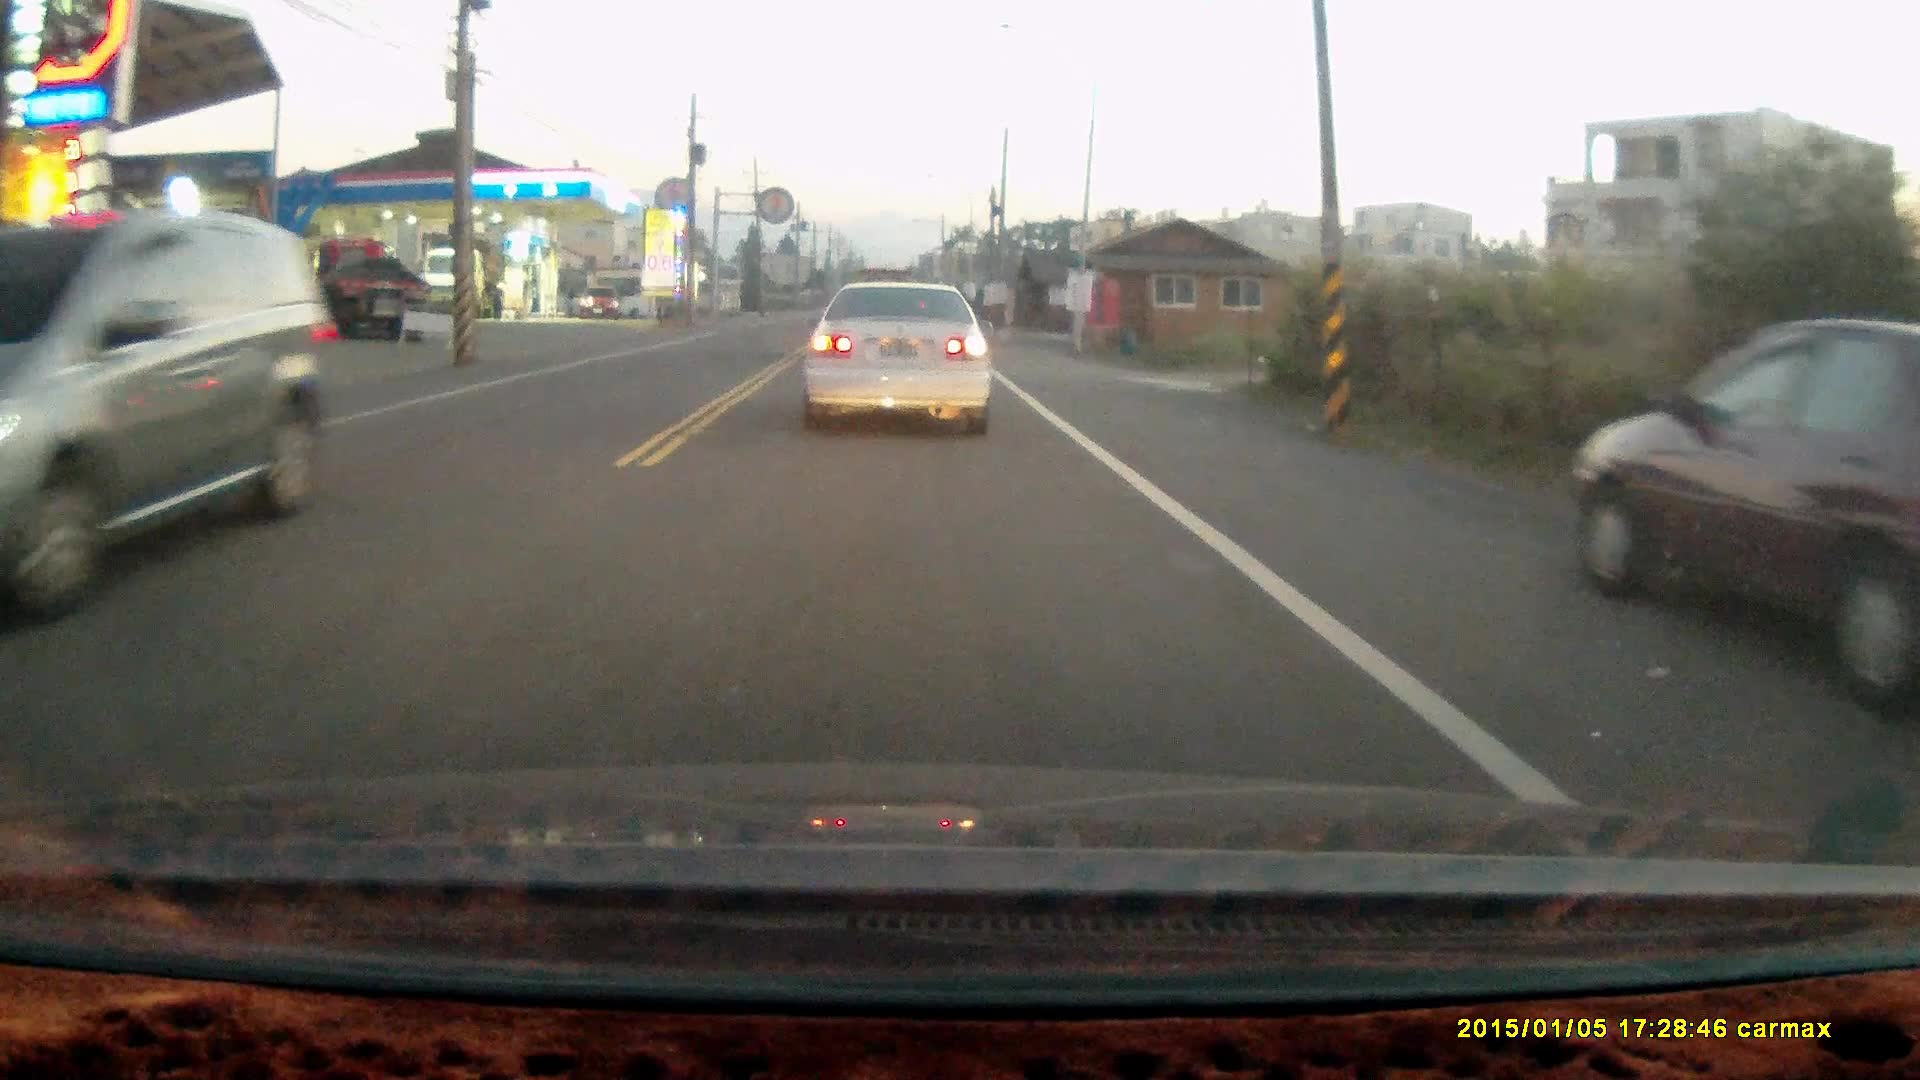pedestrian: (488, 276, 508, 319)
vehicle: (1571, 315, 1920, 724), (1, 213, 334, 611), (796, 279, 995, 438), (306, 230, 432, 339), (412, 236, 494, 319), (580, 287, 622, 322)
